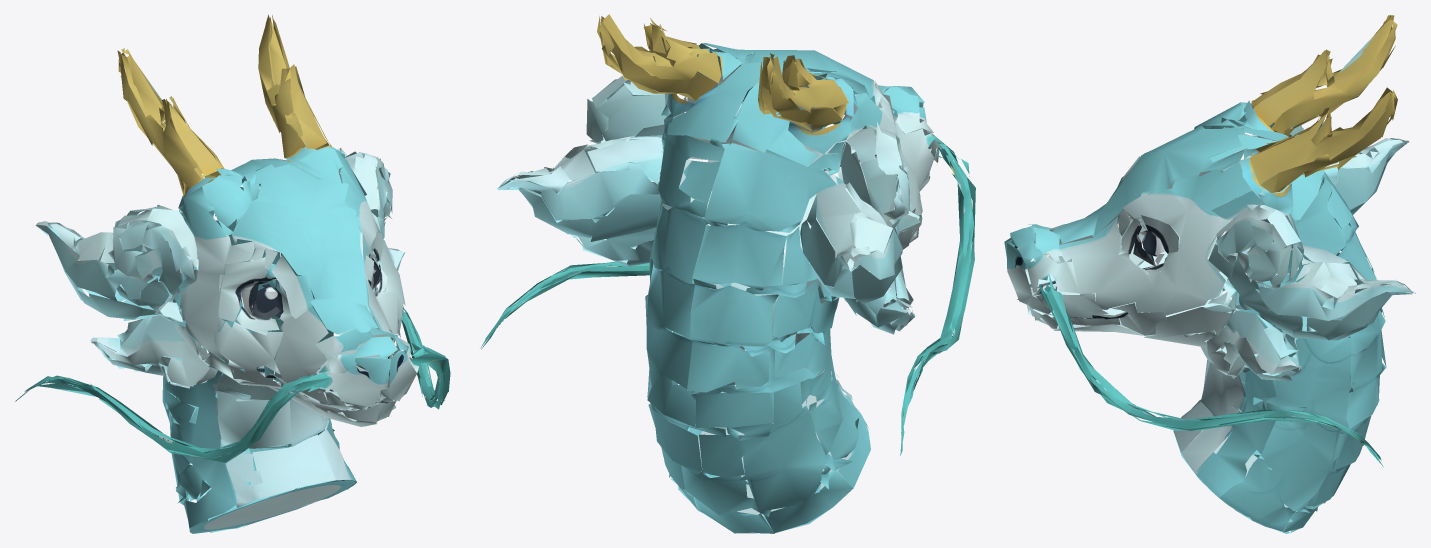
Rendered from seiran_dragon_head.glb.
The picture shows the model from 3 angles, left to right: view 1: azimuth 30°, elevation 25°; view 2: azimuth 150°, elevation 25°; view 3: azimuth 270°, elevation 25°; orthographic projection. The views are drawn at different scales.
Parts seen in each view (by area): view 1: dragon_head; view 2: dragon_head; view 3: dragon_head.
Boxes of the visible parts, x1,y1,x2,y2 form: dragon_head: (15, 14, 450, 533); dragon_head: (480, 14, 975, 533); dragon_head: (1004, 15, 1415, 533).
Bounding box in the file's own units: 0.3721 × 0.4506 × 0.358.
1 material, 1 textured.
